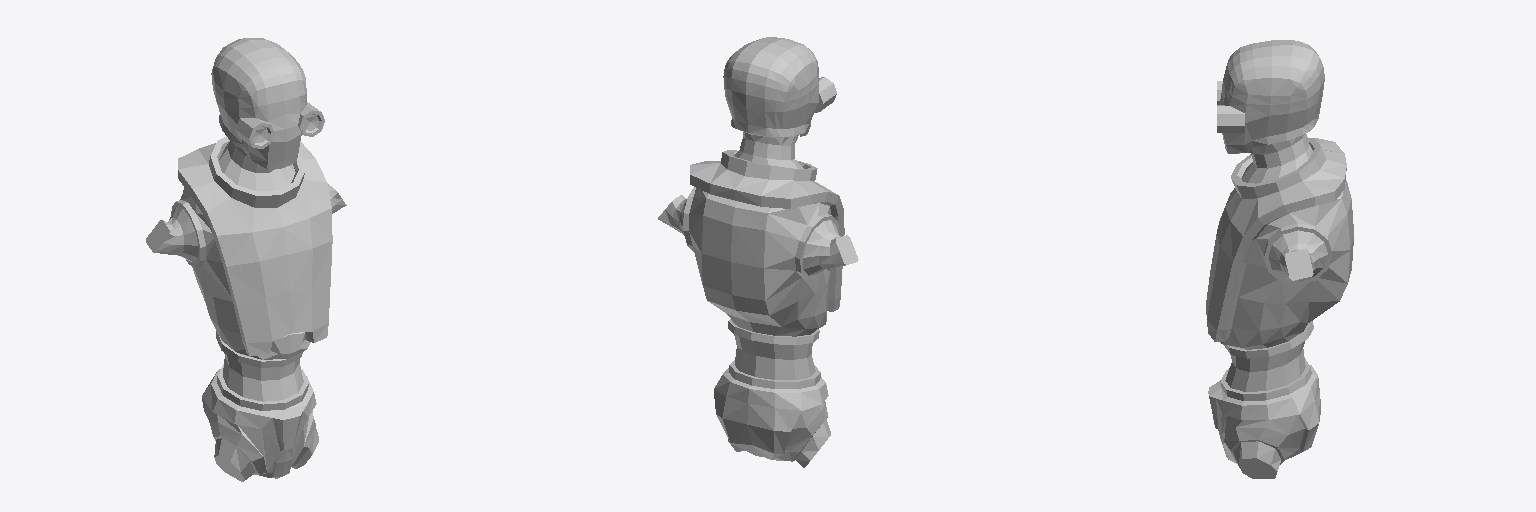
Rendered from Robot.obj.
3 renders of one model, left to right at view 1: azimuth 30°, elevation 25°; view 2: azimuth 150°, elevation 25°; view 3: azimuth 270°, elevation 25°, orthographic.
Parts seen in each view (by area): view 1: Robot; view 2: Robot; view 3: Robot.
Boxes of the visible parts, box(x1,y1,x2,y2) form: Robot: box(146, 38, 346, 481); Robot: box(658, 37, 858, 467); Robot: box(1206, 40, 1353, 478).
Size of the model in its own units: 0.4581 by 0.9559 by 0.3052.